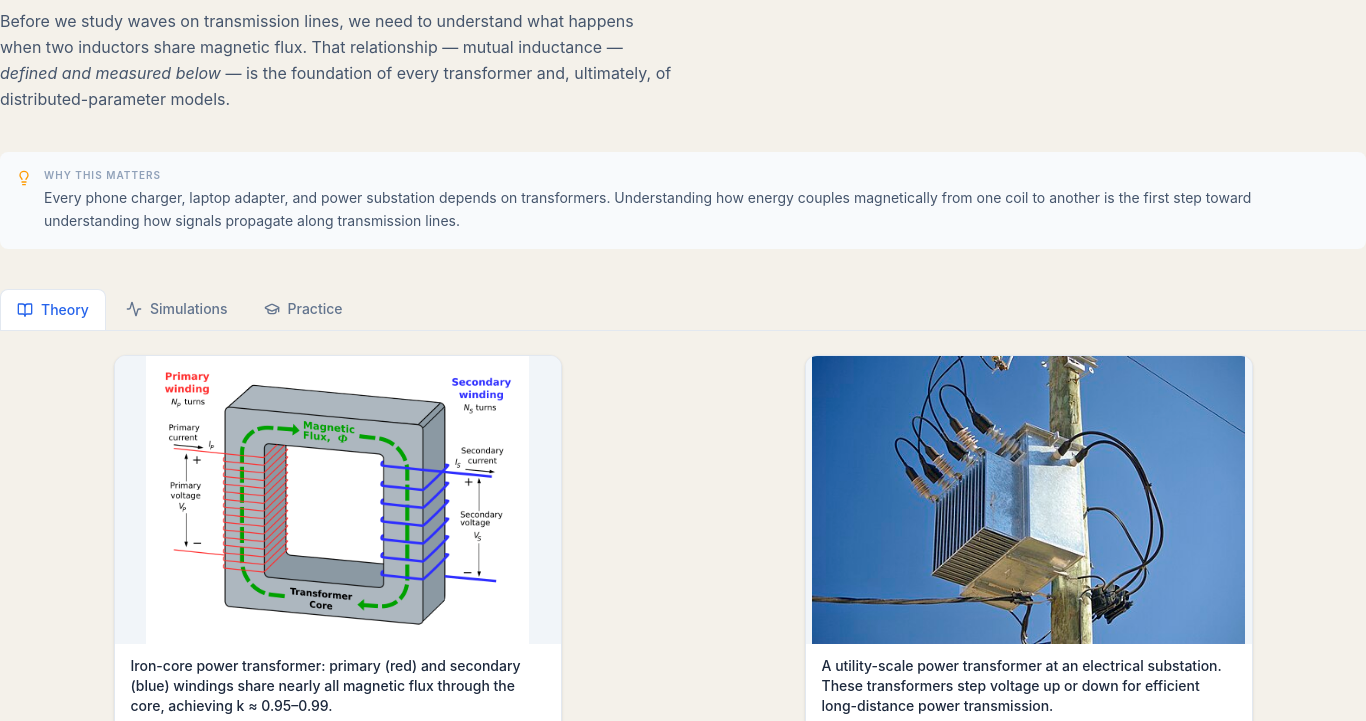
Test case: Transformers — section 3.4 page (mutual-inductance extension) › Practice tab: the new measure-M YourTurn renders above the reflected-impedance one
Click the tab "Practice".
click(303, 309)  # box [248, 288, 359, 330]
(page scrolled)
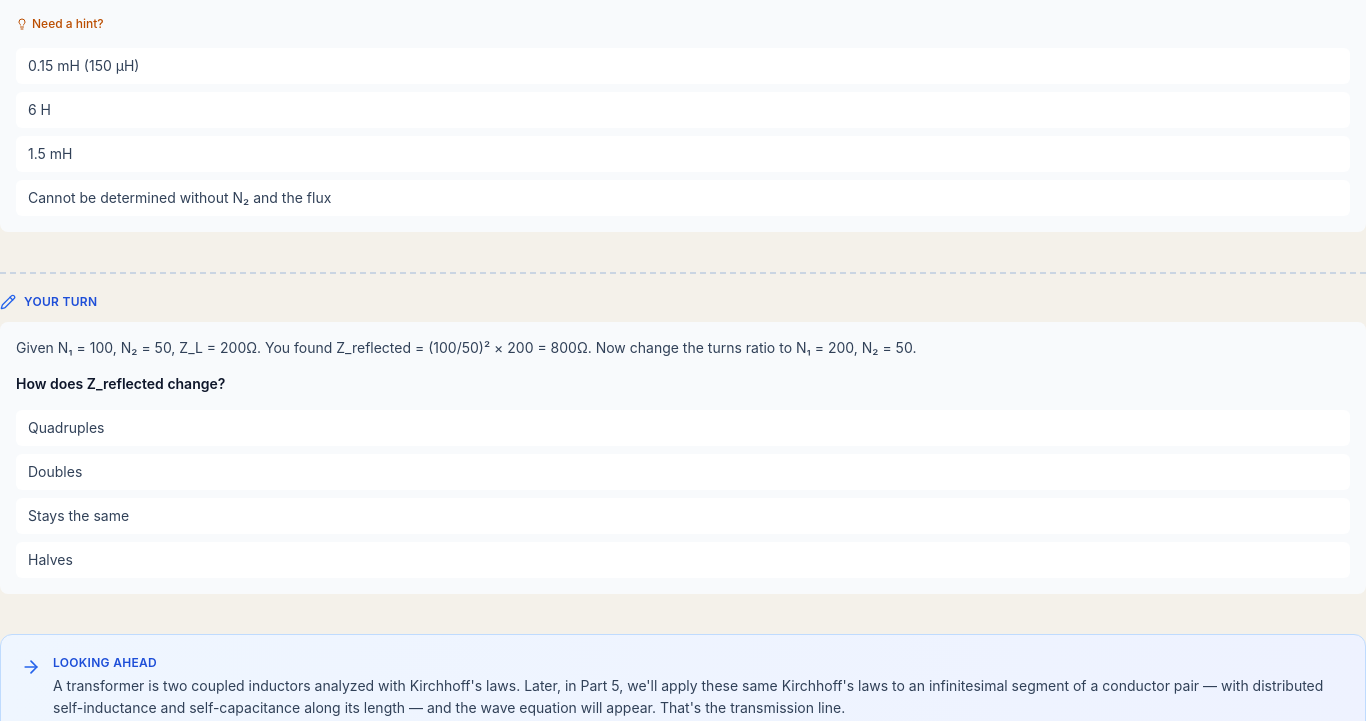
Result: the text "You found Z_reflected" is shown at [16, 338, 916, 356]
